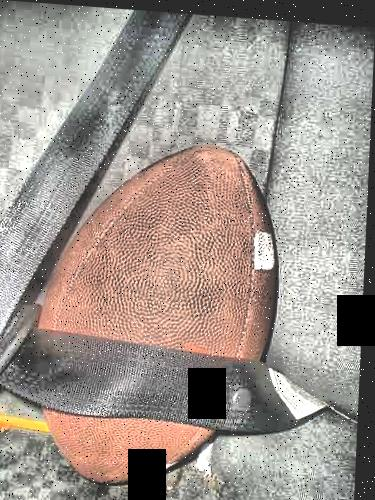seatbelt: (1, 21, 299, 436)
